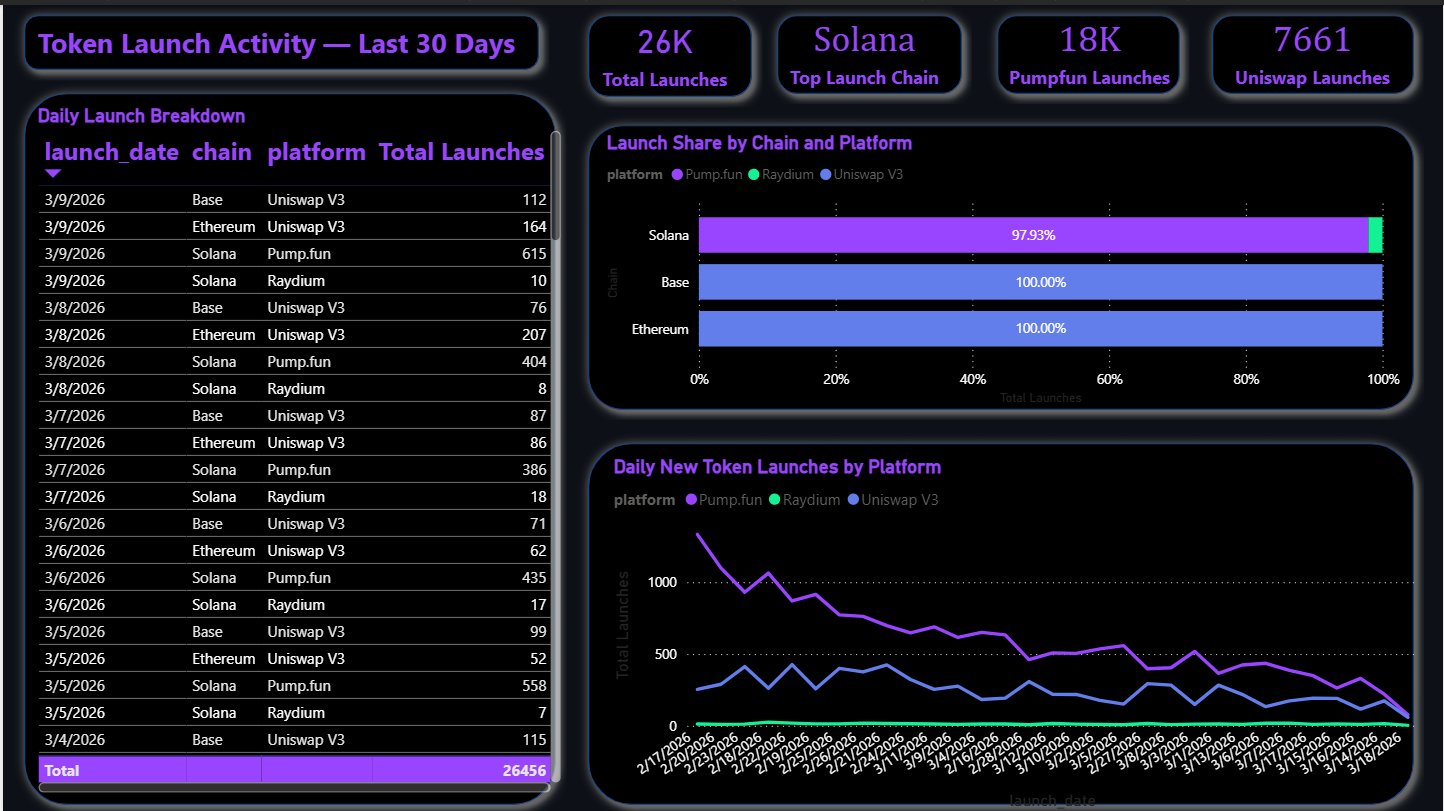

The dashboard page shown, as its layout file describes it:
{"tool":"powerbi","page":{"name":"Launch Activity","canvas":[1280,720],"ordinal":1},"visuals":[{"type":"shape","box":[9.8,0,475.6,66.7],"z":0,"group":"g1"},{"type":"shape","box":[9.8,69.3,490.7,650.7],"z":1000,"group":"g1"},{"type":"group","id":"g1","title":"Group 1","box":[9.8,0,1253.3,720],"z":1250},{"type":"textbox","box":[25.8,11.6,474.7,55.1],"z":1625},{"type":"card","fields":{"Values":["Survival_Rate.Total Launches"]},"box":[510.7,4,154.4,75.2],"z":2000},{"type":"shape","box":[511.1,380.4,752,339.6],"z":2000,"group":"g1"},{"type":"card","fields":{"Values":["Survival_Rate.Top Launch Chain"]},"box":[679.1,0,173.3,79.1],"z":3000},{"type":"shape","box":[511.1,97.8,752,271.1],"z":3000,"group":"g1"},{"type":"shape","box":[679.1,0,182.2,88],"z":4000,"group":"g1"},{"type":"card","fields":{"Values":["Survival_Rate.Pumpfun Launches"]},"box":[887.1,0,157.3,79.1],"z":4000},{"type":"shape","box":[874.7,0,180.4,88],"z":5000,"group":"g1"},{"type":"card","fields":{"Values":["Survival_Rate.Uniswap Launches"]},"box":[1065.8,0,196.4,79.1],"z":5000},{"type":"shape","box":[1065.8,0,197.3,88],"z":6000,"group":"g1"},{"type":"lineChart","title":"Daily New Token Launches by Platform","fields":{"Category":["Total_Token_Launch.launch_date"],"Y":["Survival_Rate.Total Launches"],"Series":["Total_Token_Launch.platform"]},"box":[537.8,400,724.4,320],"z":6000},{"type":"shape","box":[511.1,0,163.6,90.7],"z":7000,"group":"g1"},{"type":"hundredPercentStackedBarChart","title":"Launch Share by Chain and Platform","fields":{"Category":["DimChain.Chain"],"Y":["Survival_Rate.Total Launches"],"Series":["Total_Token_Launch.platform"]},"box":[531.6,112,714.7,248],"z":7000},{"type":"tableEx","title":"Daily Launch Breakdown","fields":{"Values":["Total_Token_Launch.launch_date","Total_Token_Launch.chain","Total_Token_Launch.platform","Survival_Rate.Total Launches"]},"box":[25.8,88,474.7,616.9],"z":8000}]}

Visuals, with their boxes in screenshot pixels (x1, y1, x2, y2), scaled from the page's 1280x720 canvas onto the 1444x811 screenshot:
shape: bbox=(11, 0, 548, 75)
shape: bbox=(11, 78, 565, 810)
"Group 1" group: bbox=(11, 0, 1425, 810)
textbox: bbox=(29, 13, 565, 75)
card - Survival_Rate.Total Launches: bbox=(576, 5, 750, 89)
shape: bbox=(577, 428, 1425, 810)
card - Survival_Rate.Top Launch Chain: bbox=(766, 0, 962, 89)
shape: bbox=(577, 110, 1425, 416)
shape: bbox=(766, 0, 972, 99)
card - Survival_Rate.Pumpfun Launches: bbox=(1001, 0, 1178, 89)
shape: bbox=(987, 0, 1190, 99)
card - Survival_Rate.Uniswap Launches: bbox=(1202, 0, 1424, 89)
shape: bbox=(1202, 0, 1425, 99)
"Daily New Token Launches by Platform" lineChart: bbox=(607, 451, 1424, 810)
shape: bbox=(577, 0, 761, 102)
"Launch Share by Chain and Platform" hundredPercentStackedBarChart: bbox=(600, 126, 1406, 406)
"Daily Launch Breakdown" tableEx: bbox=(29, 99, 565, 794)
